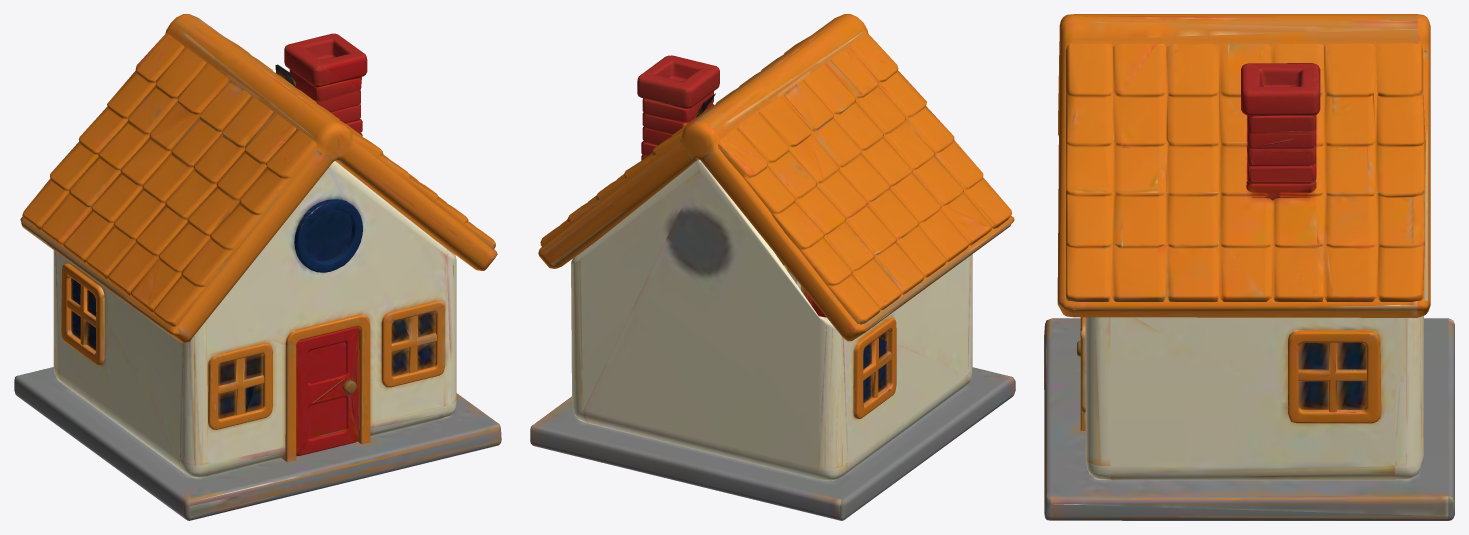
Rendered from bld-house.glb.
3 views of the same model, side by side, from view 1: azimuth 30°, elevation 25°; view 2: azimuth 150°, elevation 25°; view 3: azimuth 270°, elevation 25° (orthographic). The views are drawn at different scales.
Size of the model in its own units: 0.9749 by 1 by 0.8966.
1 material, 1 textured.
